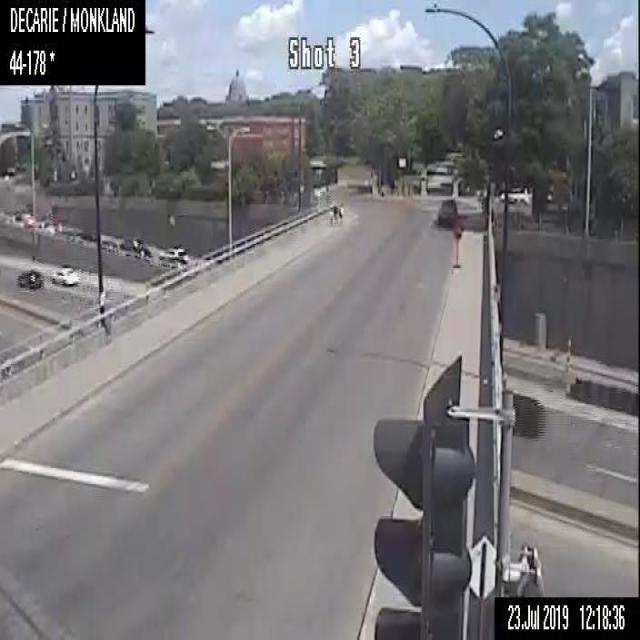construction: (450, 213, 461, 269)
pedestrian: (338, 203, 344, 224), (332, 204, 338, 224)
vehicle: (119, 235, 151, 258), (16, 266, 44, 290), (157, 242, 188, 262), (436, 197, 458, 224), (49, 265, 79, 284), (100, 237, 117, 255), (8, 210, 31, 222), (36, 218, 52, 235)
